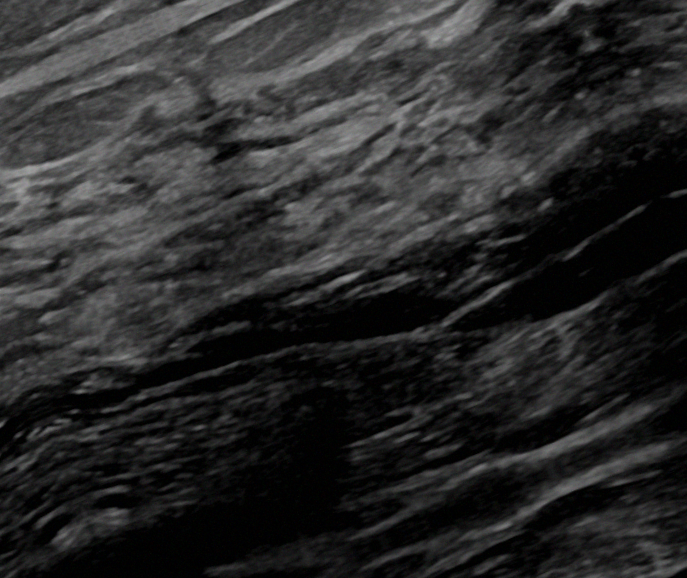Normal: (2, 2, 687, 541)
